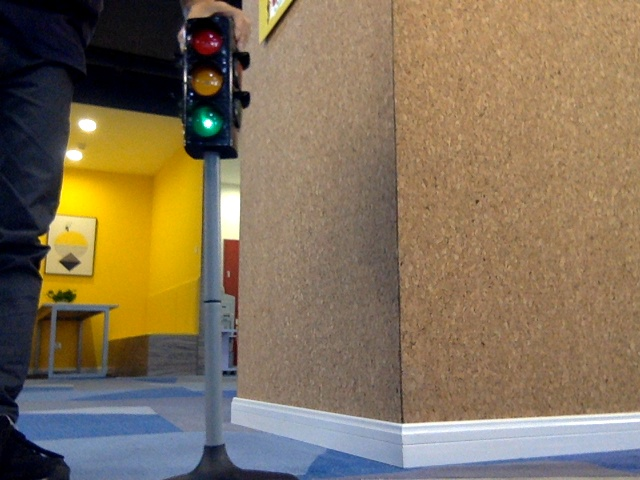green: (185, 28, 226, 138)
